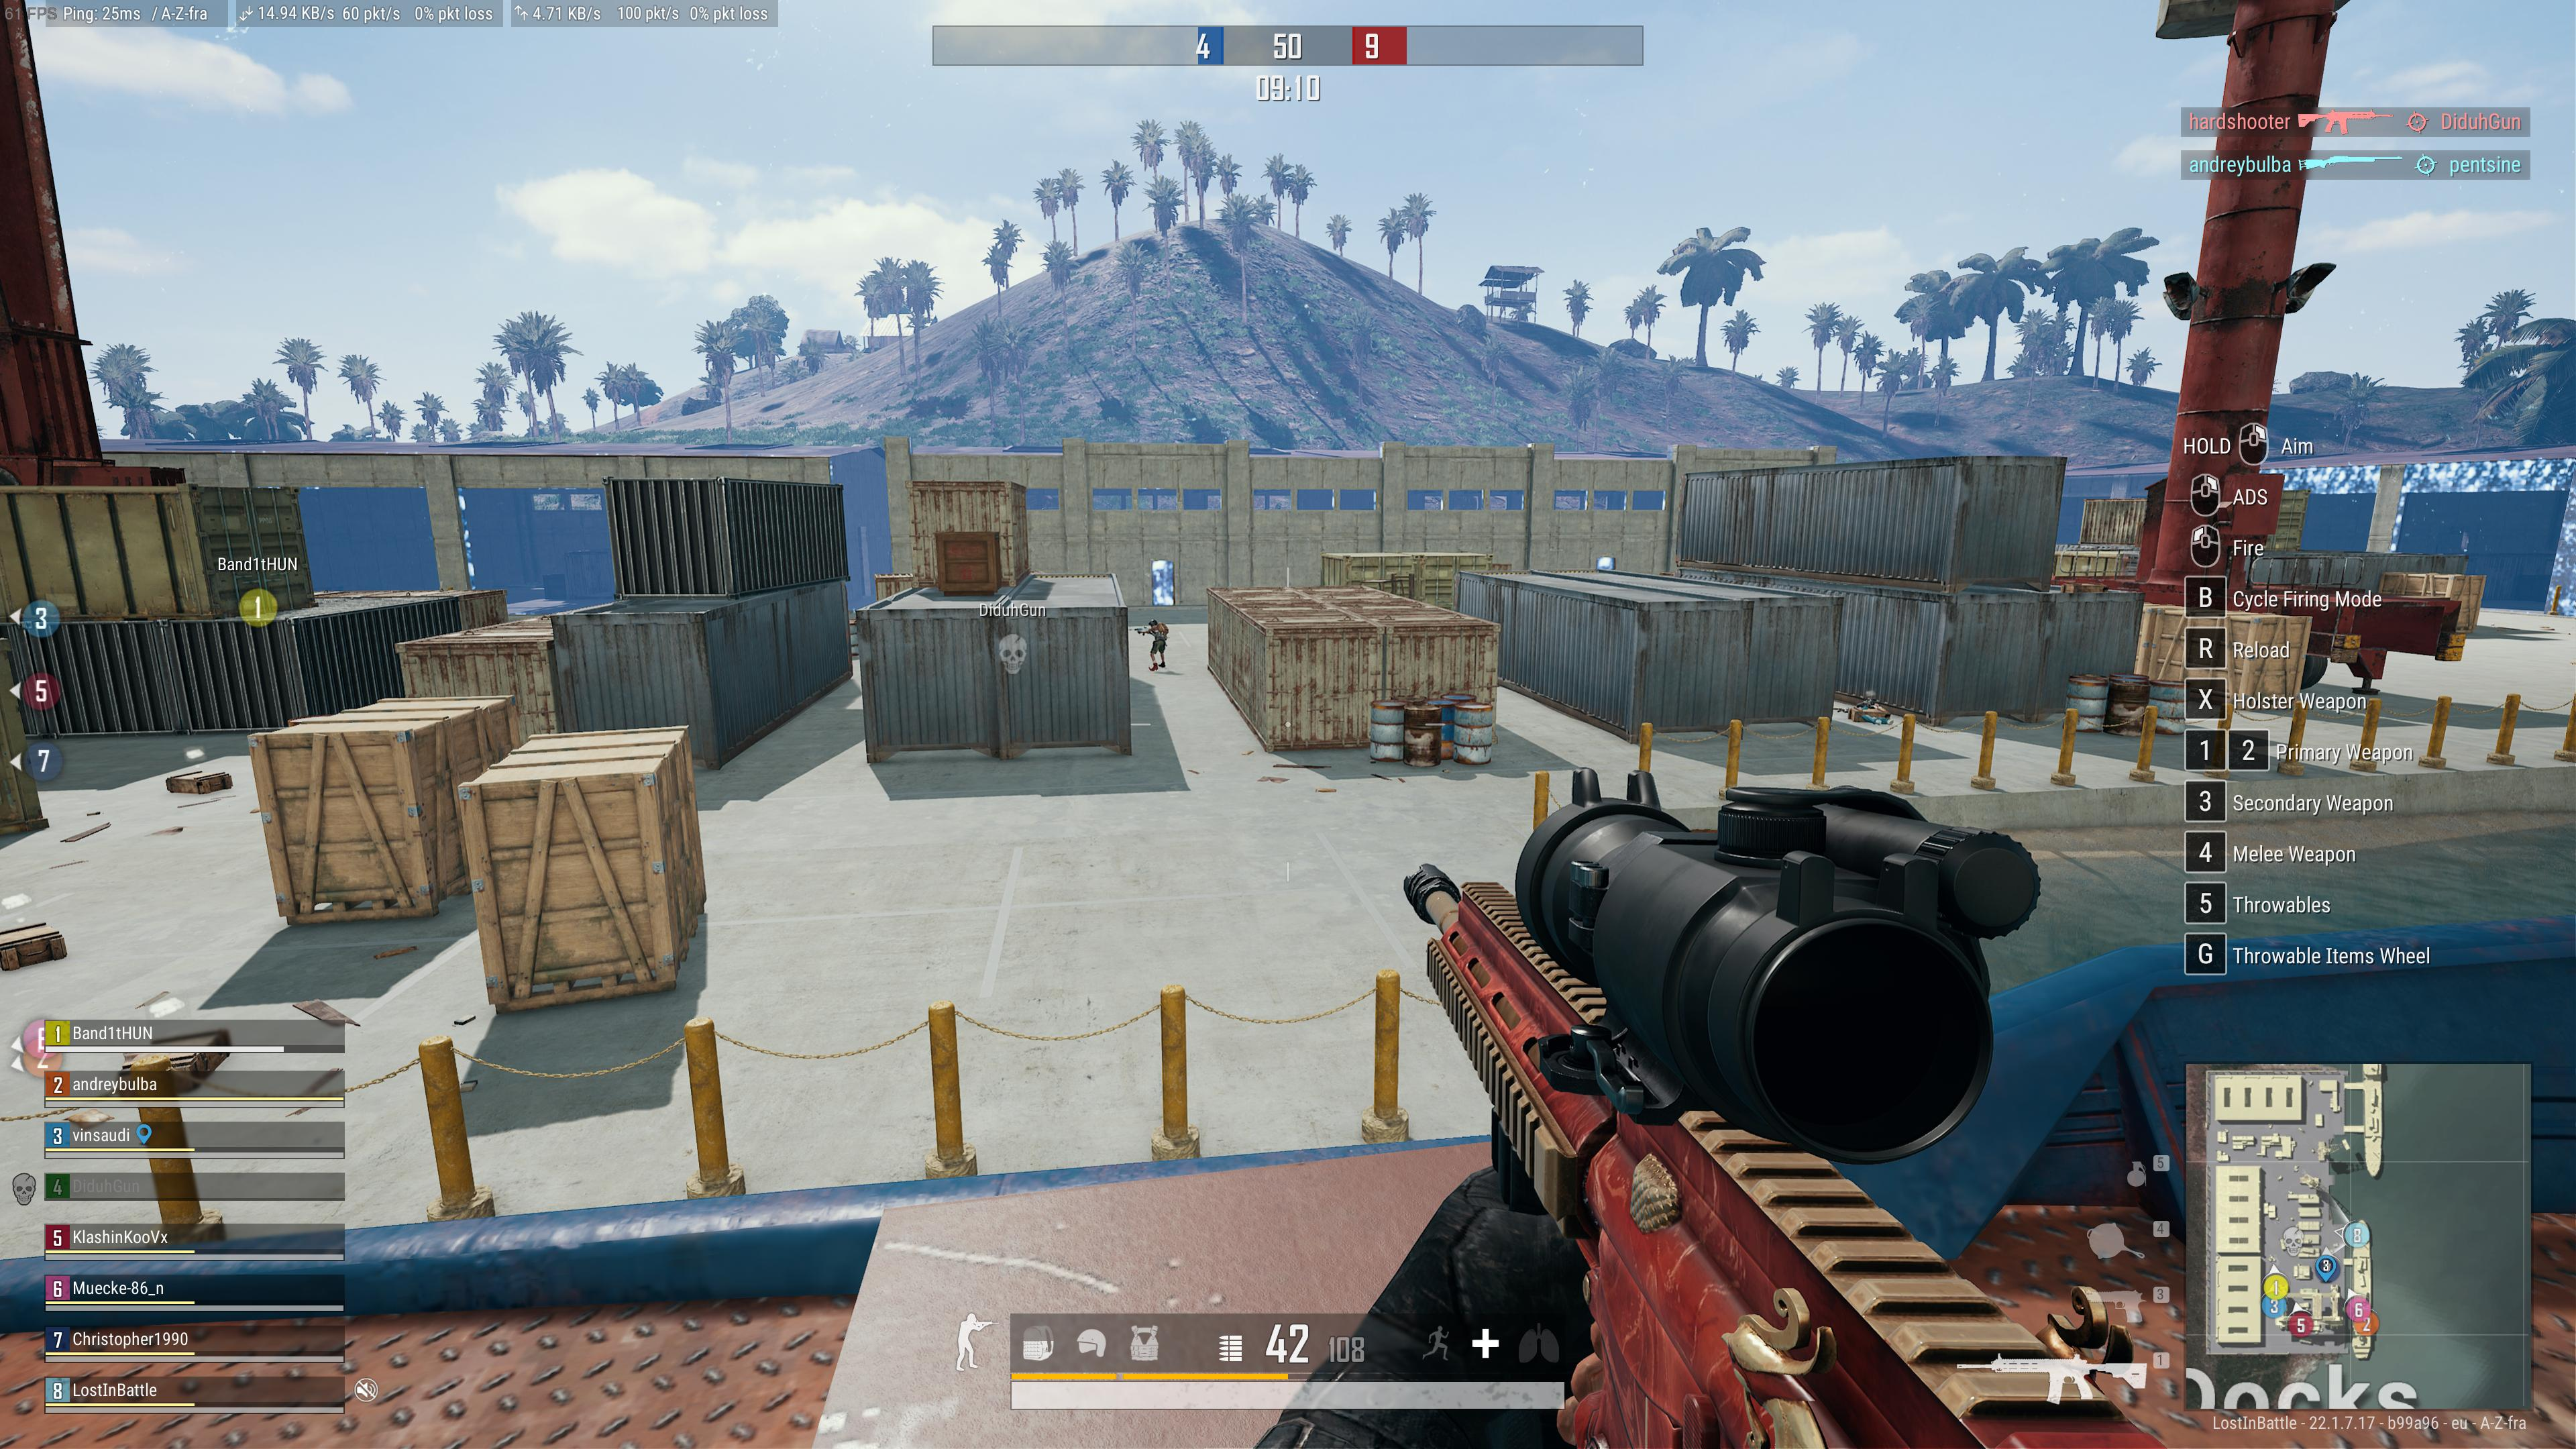enemy: (1139, 617, 1169, 671)
enemy_head: (1148, 619, 1157, 628)
